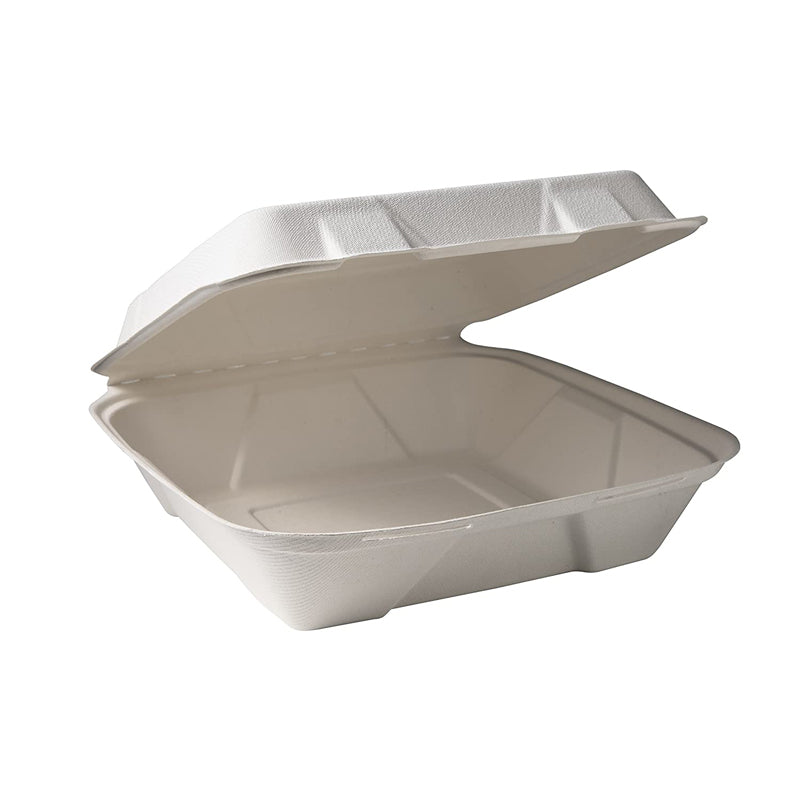styrofoam: (90, 166, 744, 640)
